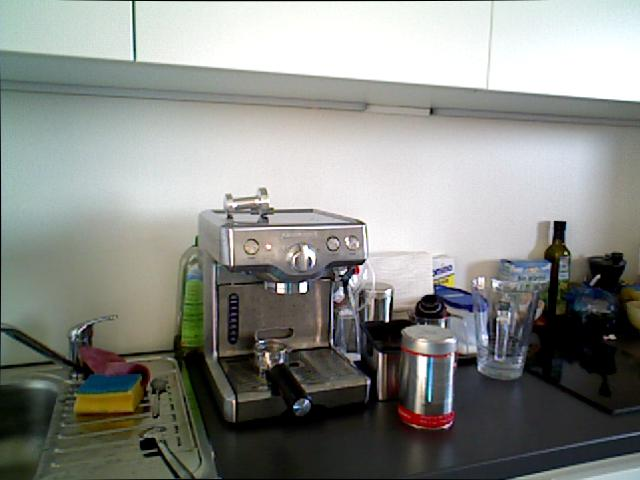bench: (170, 235, 210, 361), (543, 220, 571, 317)
bird: (624, 296, 640, 350)
couch: (0, 364, 69, 480)
hair drier: (470, 274, 541, 380)
toilet: (137, 423, 198, 480), (150, 376, 170, 423)
